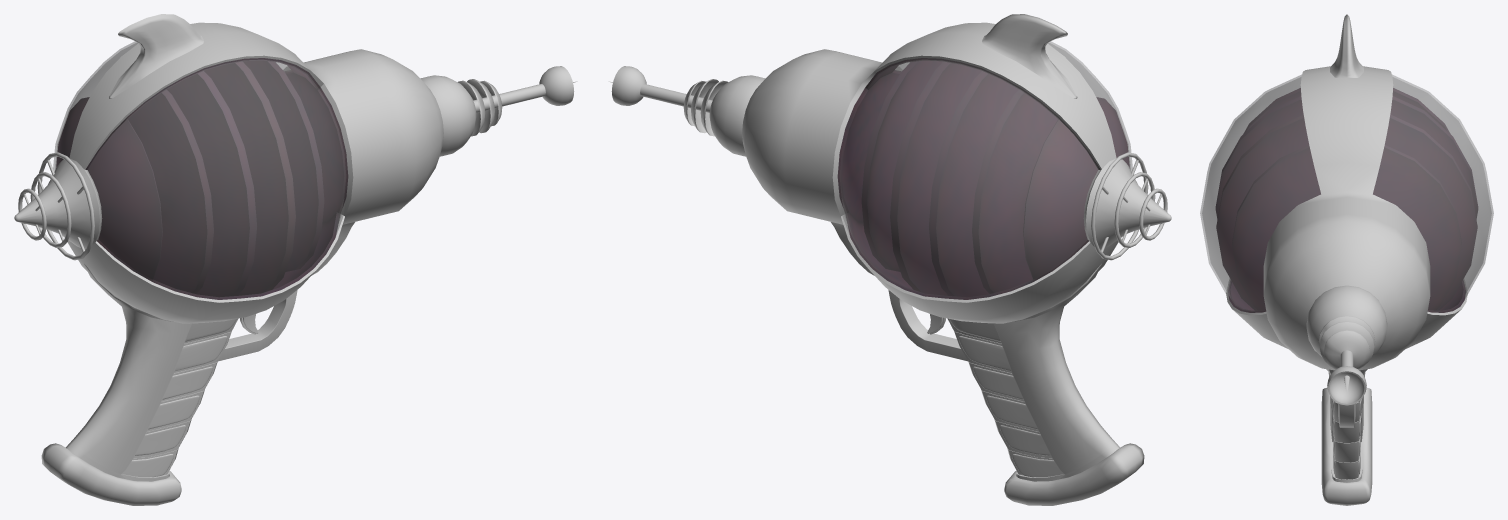
The model's file is RayGunExport_003.fbx.
3 views of the same model, side by side, from view 1: azimuth 30°, elevation 25°; view 2: azimuth 150°, elevation 25°; view 3: azimuth 270°, elevation 25° (orthographic).
Visible parts, largest first — view 1: polySurface34, polySurface19, polySurface18; view 2: polySurface34, polySurface19, polySurface18; view 3: polySurface34, polySurface19, polySurface18.
Boxes of the visible parts, bbox=[...] form: polySurface34: bbox=[14, 14, 577, 505]; polySurface19: bbox=[53, 41, 347, 299]; polySurface18: bbox=[56, 58, 348, 299]; polySurface34: bbox=[608, 14, 1171, 505]; polySurface19: bbox=[838, 41, 1132, 299]; polySurface18: bbox=[837, 58, 1129, 299]; polySurface34: bbox=[1226, 14, 1467, 505]; polySurface19: bbox=[1200, 74, 1493, 312]; polySurface18: bbox=[1215, 88, 1478, 312].
Bounding box in the file's own units: 32.05 × 26.21 × 14.65.
